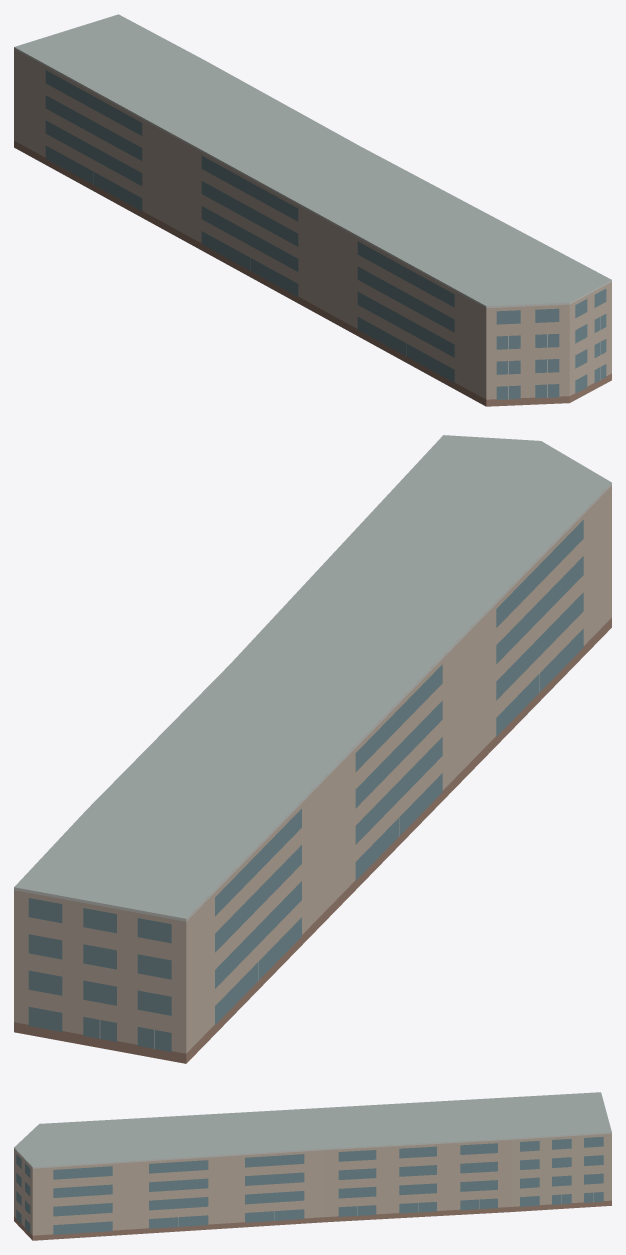
File: residential-d7eb231e-a8fe-4c82-abfa-fc4fcda5910e.glb
The picture shows the model from 3 angles, top to bottom: view 1: azimuth 30°, elevation 25°; view 2: azimuth 150°, elevation 25°; view 3: azimuth 270°, elevation 25°; orthographic projection. The views are drawn at different scales.
Visible parts, largest first — view 1: residential-d7eb231e-a8fe-4c82-abfa-fc4fcda5910e.tmp; view 2: residential-d7eb231e-a8fe-4c82-abfa-fc4fcda5910e.tmp; view 3: residential-d7eb231e-a8fe-4c82-abfa-fc4fcda5910e.tmp.
Boxes of the visible parts, x1=… form: residential-d7eb231e-a8fe-4c82-abfa-fc4fcda5910e.tmp: x1=14, y1=14, x2=611, y2=406; residential-d7eb231e-a8fe-4c82-abfa-fc4fcda5910e.tmp: x1=14, y1=435, x2=611, y2=1063; residential-d7eb231e-a8fe-4c82-abfa-fc4fcda5910e.tmp: x1=14, y1=1092, x2=611, y2=1240.
Size of the model in its own units: 26.67 by 12.2 by 89.82.
